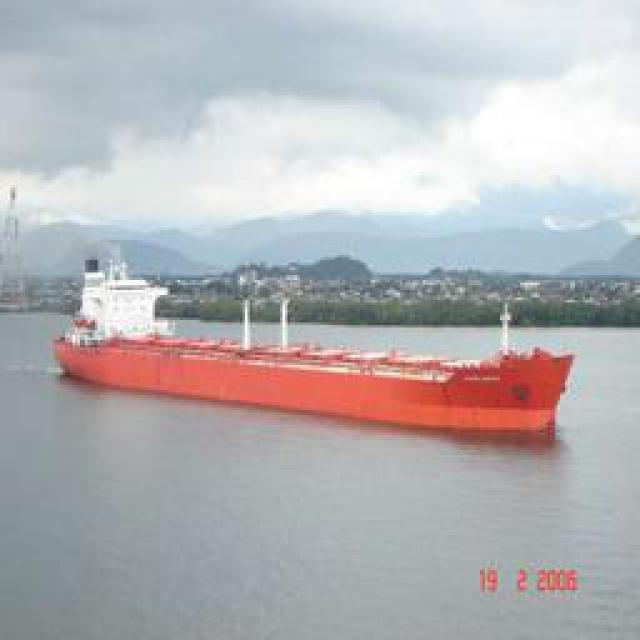Ship: (61, 305, 576, 440)
